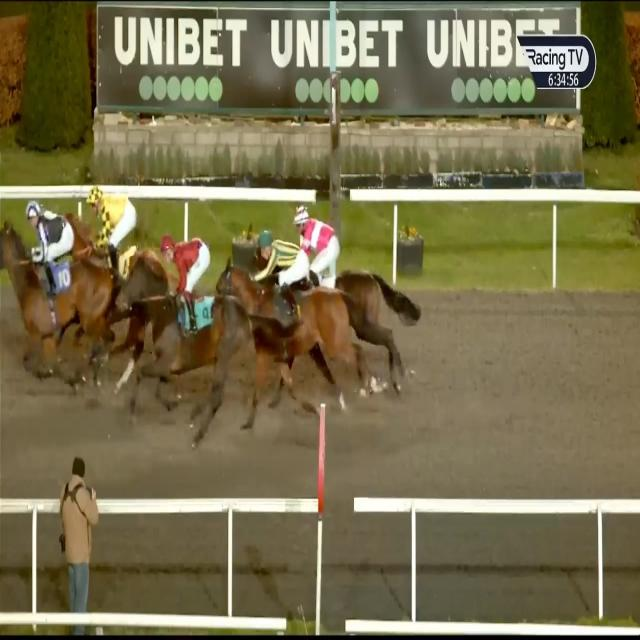horses-racing: (210, 226, 354, 398), (0, 205, 126, 387), (125, 243, 242, 386), (272, 200, 390, 338), (64, 182, 158, 307)
